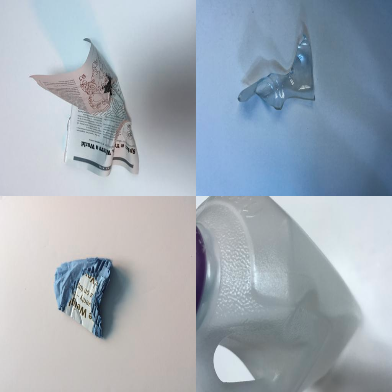cardboard: (54, 258, 113, 338)
glass: (238, 33, 315, 110)
paper: (28, 38, 140, 176)
plastic: (197, 197, 364, 390)
